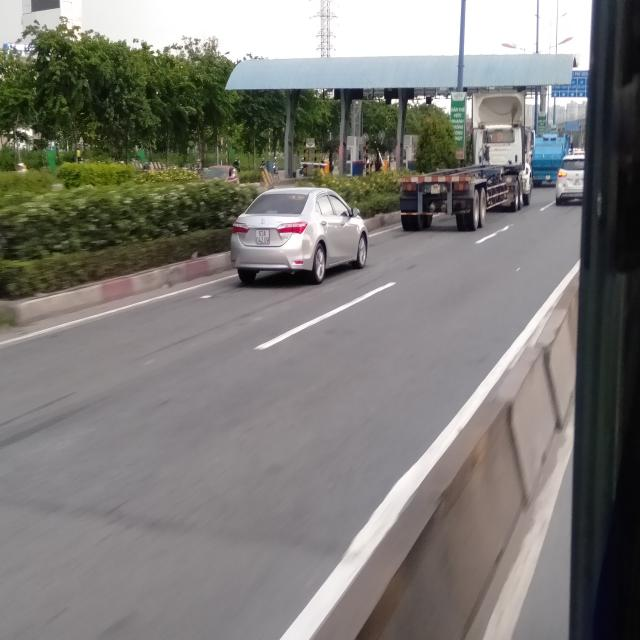bien_trang: (256, 230, 270, 246)
